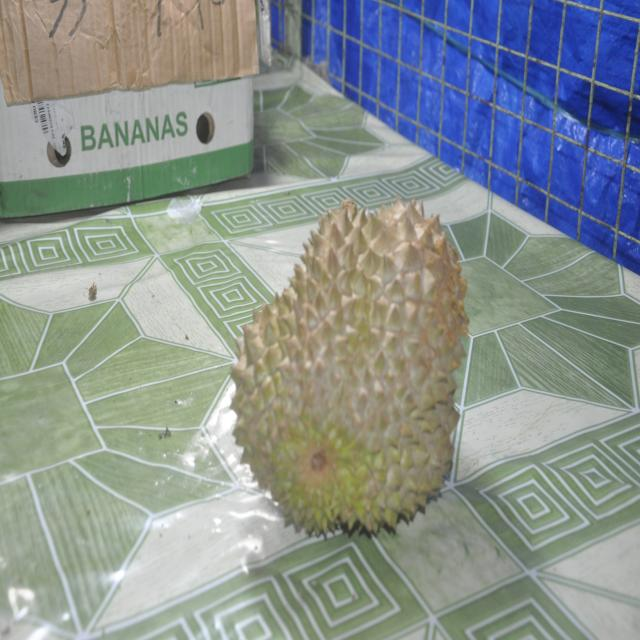mature: (231, 198, 468, 535)
